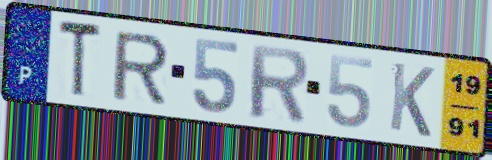5: (190, 35, 240, 116), (325, 52, 376, 130)
K: (387, 59, 437, 140)
R: (247, 41, 311, 125), (109, 30, 171, 106)
T: (56, 17, 104, 101)
